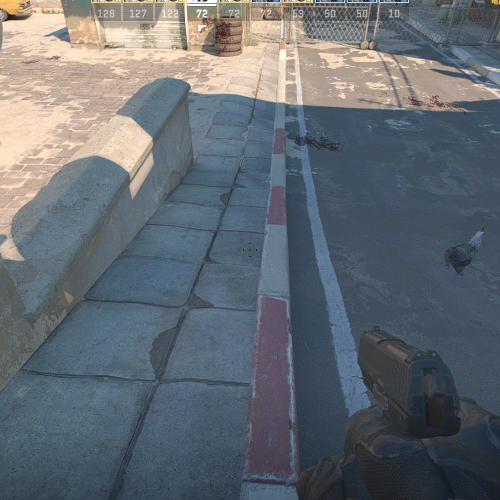chicken: (443, 227, 486, 276)
